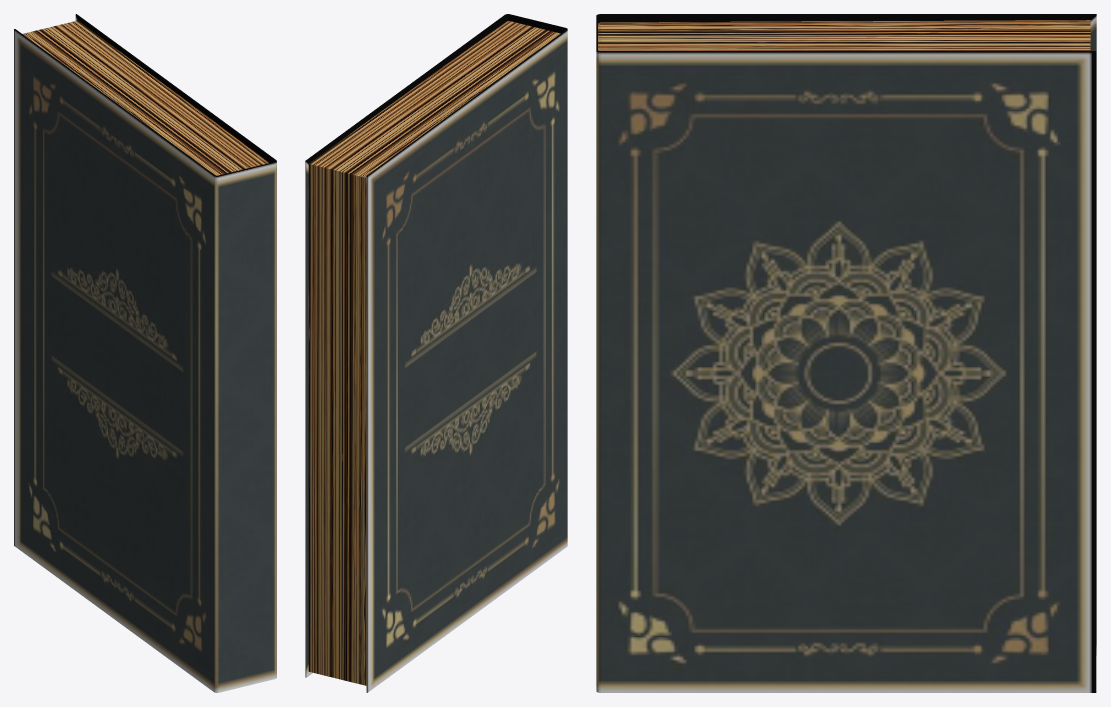
File: Book_04.fbx
The picture shows the model from 3 angles, left to right: view 1: azimuth 30°, elevation 25°; view 2: azimuth 150°, elevation 25°; view 3: azimuth 270°, elevation 25°; orthographic projection. The views are drawn at different scales.
Parts seen in each view (by area): view 1: Book_04; view 2: Book_04; view 3: Book_04.
Part boxes in pixels (box(x1,y1,x2,y2)): Book_04: box(14, 14, 276, 692); Book_04: box(305, 14, 567, 692); Book_04: box(596, 14, 1096, 692).
Bounding box in the file's own units: 2.87 × 22.73 × 16.08.
